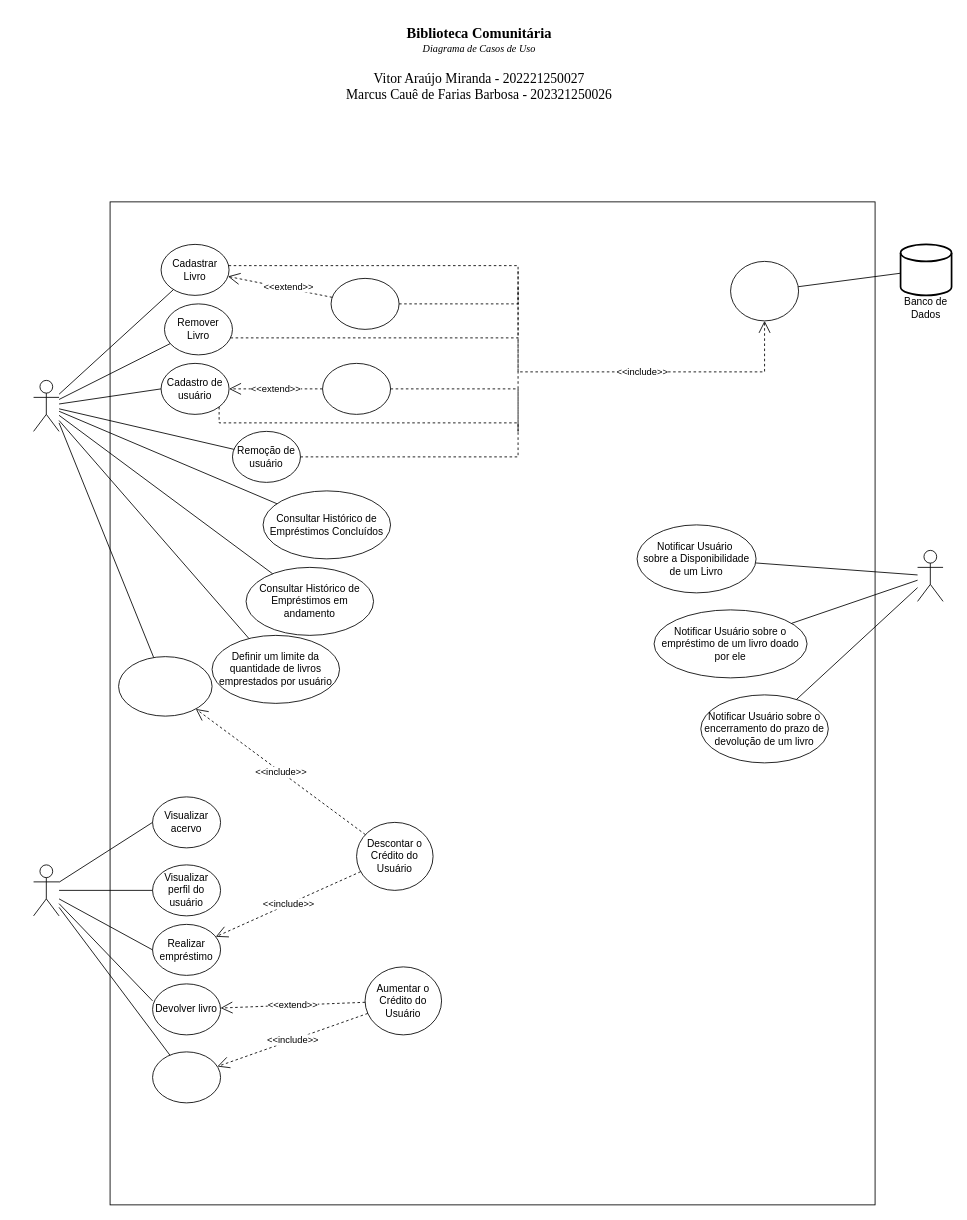
Some shapes in this 967 by 1220 pixel diagram are drawn without their labels. Here are the shapes that lost their labels. From the top down, the box of each, then its label:
(330, 278, 399, 329): Modificar Livro
(730, 261, 799, 321): Acessar Banco de Dados
(33, 380, 59, 431): Administrador
(322, 363, 391, 414): Modificação de usuário
(917, 550, 943, 601): Sistema
(118, 656, 212, 716): Aplicar penalidades para empréstimos atrasados
(33, 864, 59, 916): Usuário
(152, 1051, 221, 1103): Doar um livro
